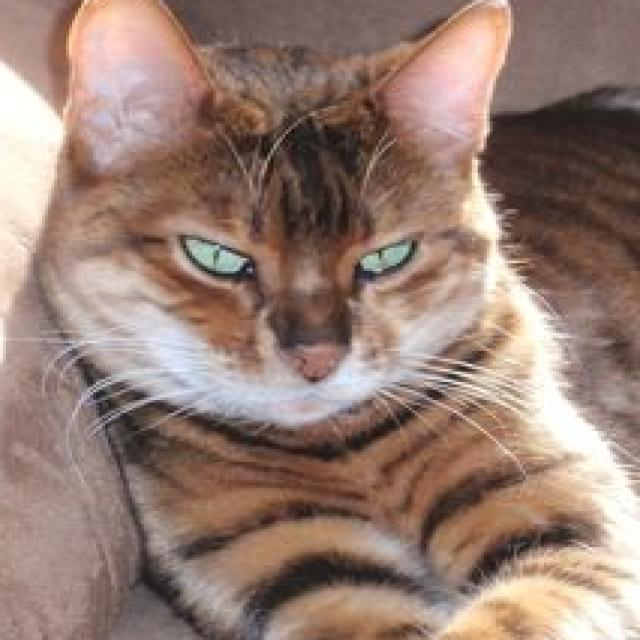Toyger: (27, 0, 640, 640)
